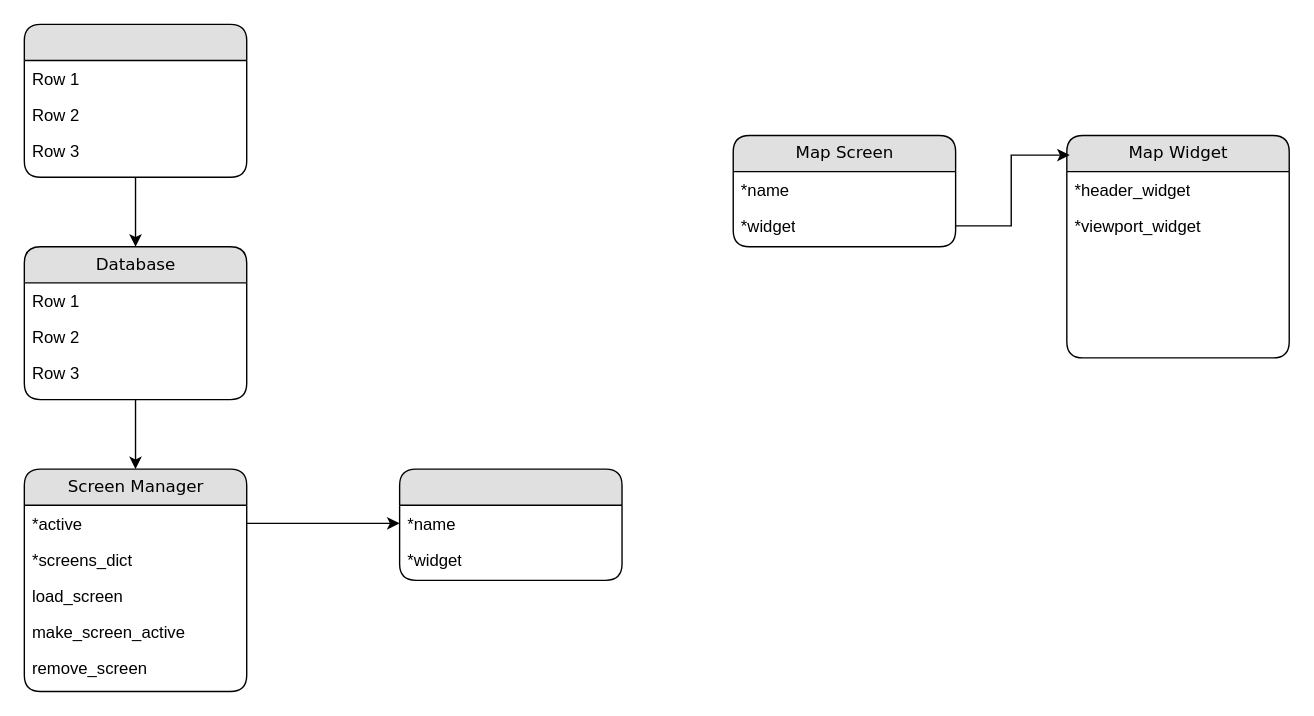
This 1314x716 diagram has some shape labels left out. The shapes that lost their labels are listed below. From the top down, each one's box as (x1, y1, x2, y2) in pixels, then its label:
(23, 23, 247, 177): User Auth
(398, 468, 622, 580): Screen DataType
